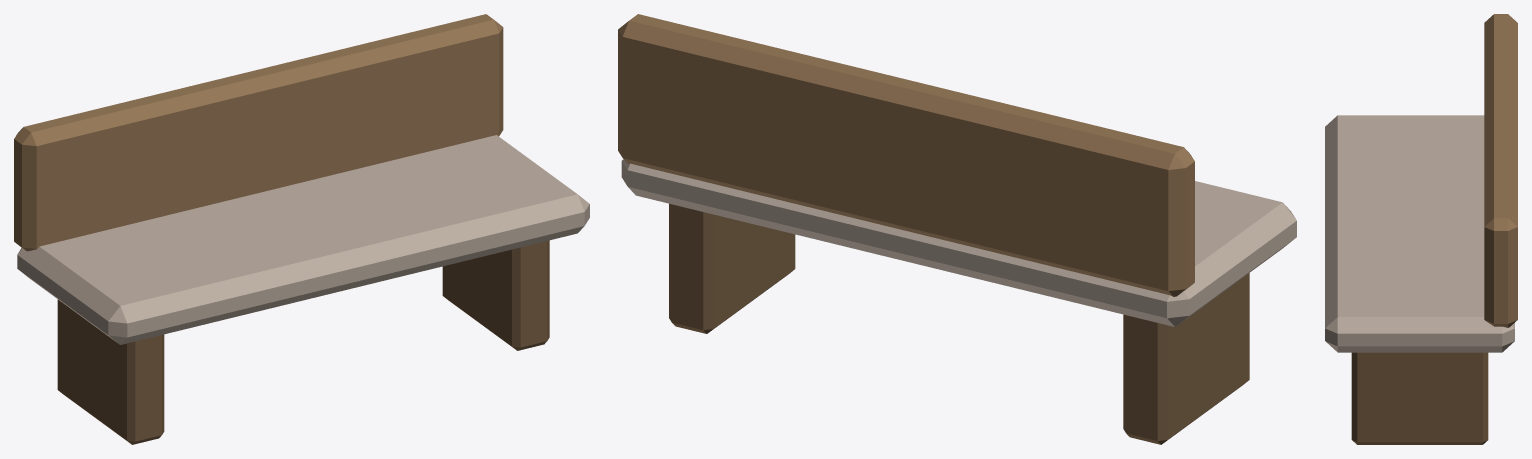
Rendered from bench.glb.
3 renders of one model, left to right at view 1: azimuth 30°, elevation 25°; view 2: azimuth 150°, elevation 25°; view 3: azimuth 270°, elevation 25°, orthographic. The views are drawn at different scales.
Bounding box in the file's own units: 1.8 × 0.9405 × 0.69.
